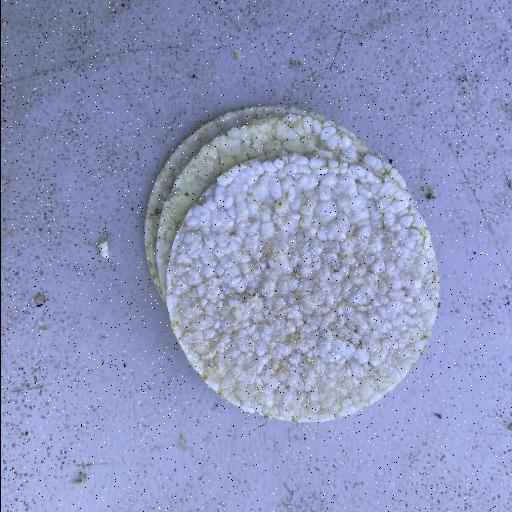Waste: (142, 104, 440, 424)
